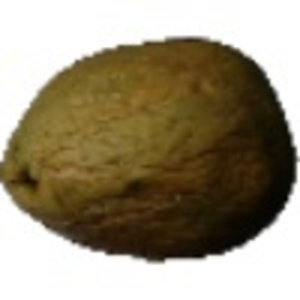mamão: (1, 23, 297, 245)
